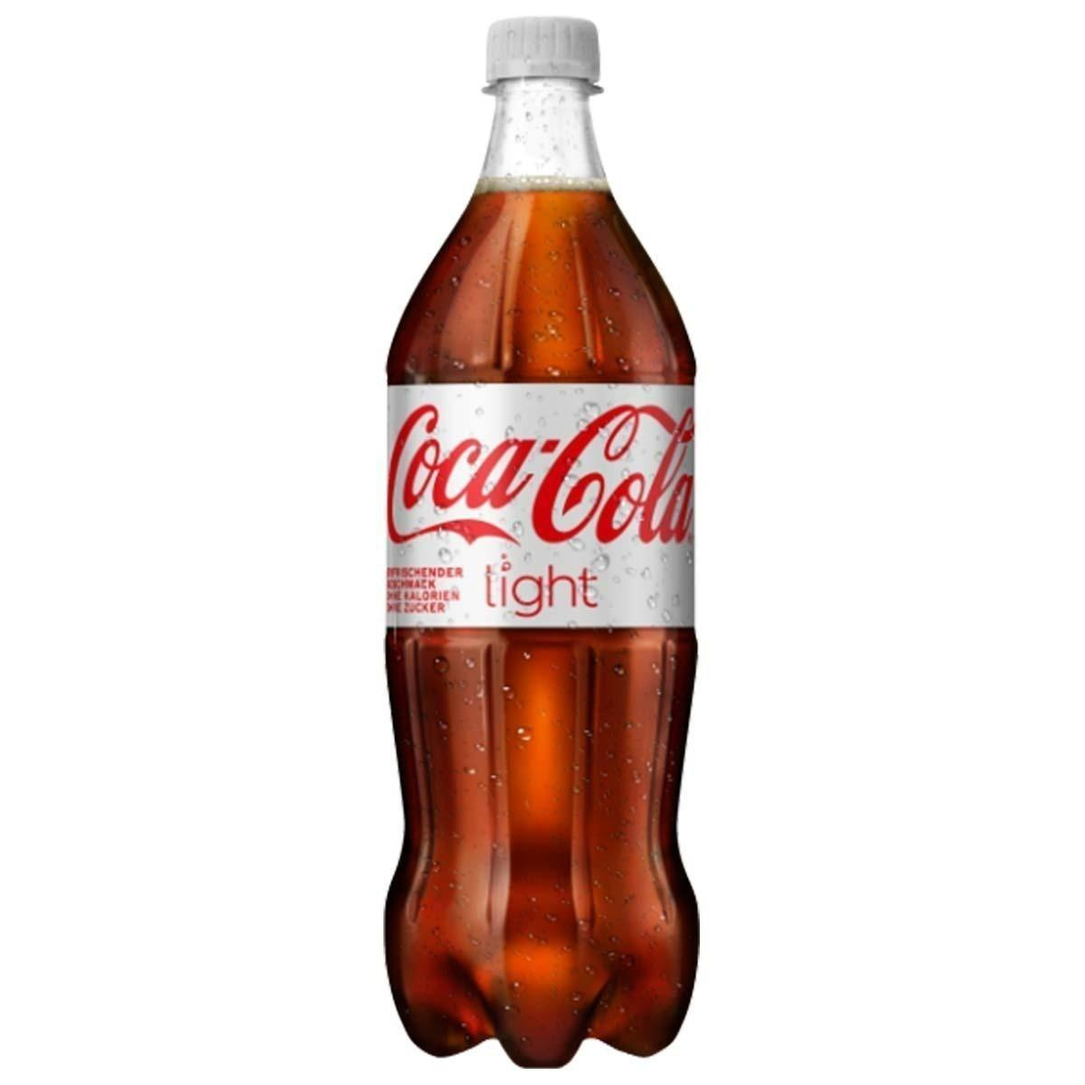bottle-plastic: (373, 7, 708, 1082)
